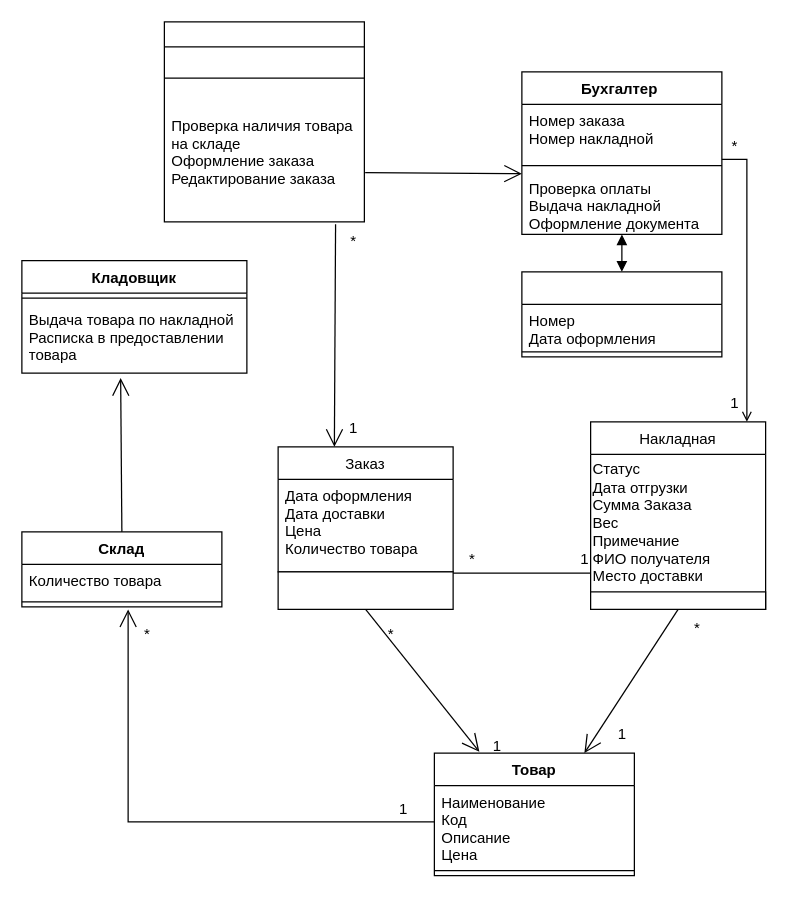
Image size: 788x898. Some labels were removed from this diagram. Each missing label, with the box of its shape:
Документ: (521, 271, 722, 357)
Менеджер: (163, 21, 364, 222)
Отменить: (277, 571, 453, 609)
